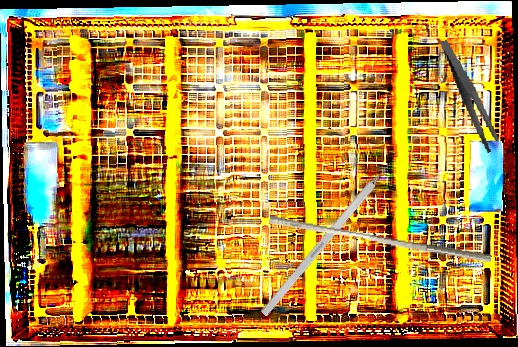Dressing Forceps: (439, 34, 501, 158)
Hook Surgical: (260, 150, 402, 317)
Pusher: (267, 214, 494, 263)
